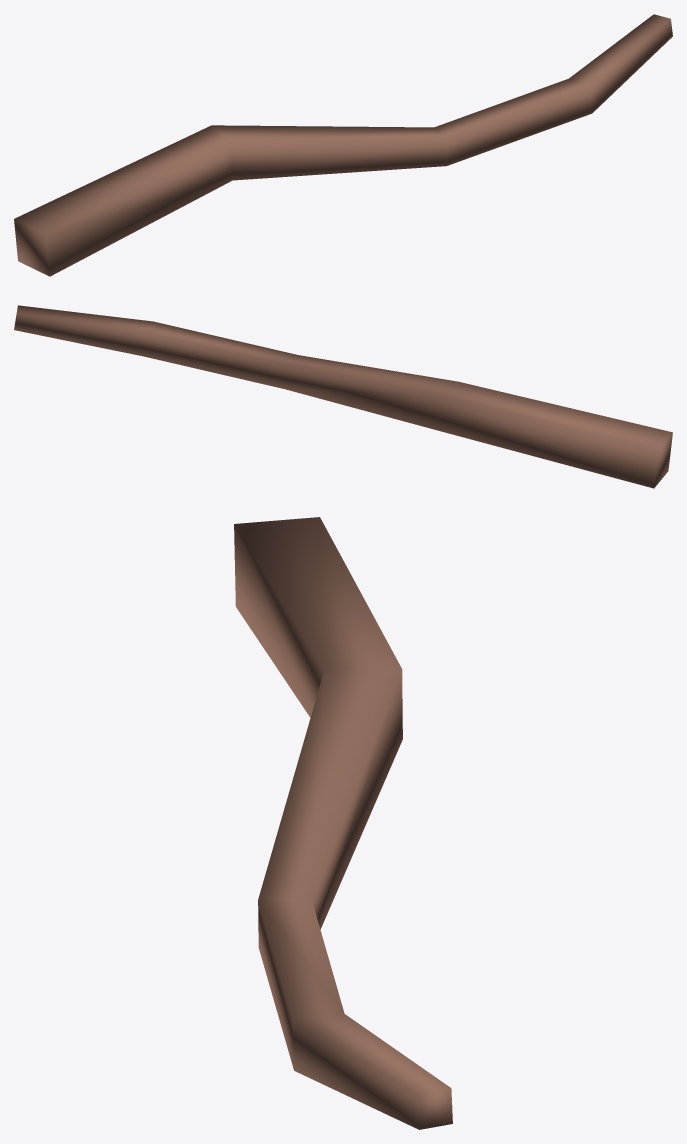
Rendered from Stick_LightBrown_4.fbx.
3 views of the same model, one above another, from view 1: azimuth 30°, elevation 25°; view 2: azimuth 150°, elevation 25°; view 3: azimuth 270°, elevation 25° (orthographic). The views are drawn at different scales.
Visible parts, largest first — view 1: Stick_LightBrown_4; view 2: Stick_LightBrown_4; view 3: Stick_LightBrown_4.
Part boxes in pixels (bbox=[...]): Stick_LightBrown_4: bbox=[14, 14, 672, 276]; Stick_LightBrown_4: bbox=[14, 305, 672, 488]; Stick_LightBrown_4: bbox=[234, 517, 452, 1129].
Bounding box in the file's own units: 190 × 17.7 × 29.14.
